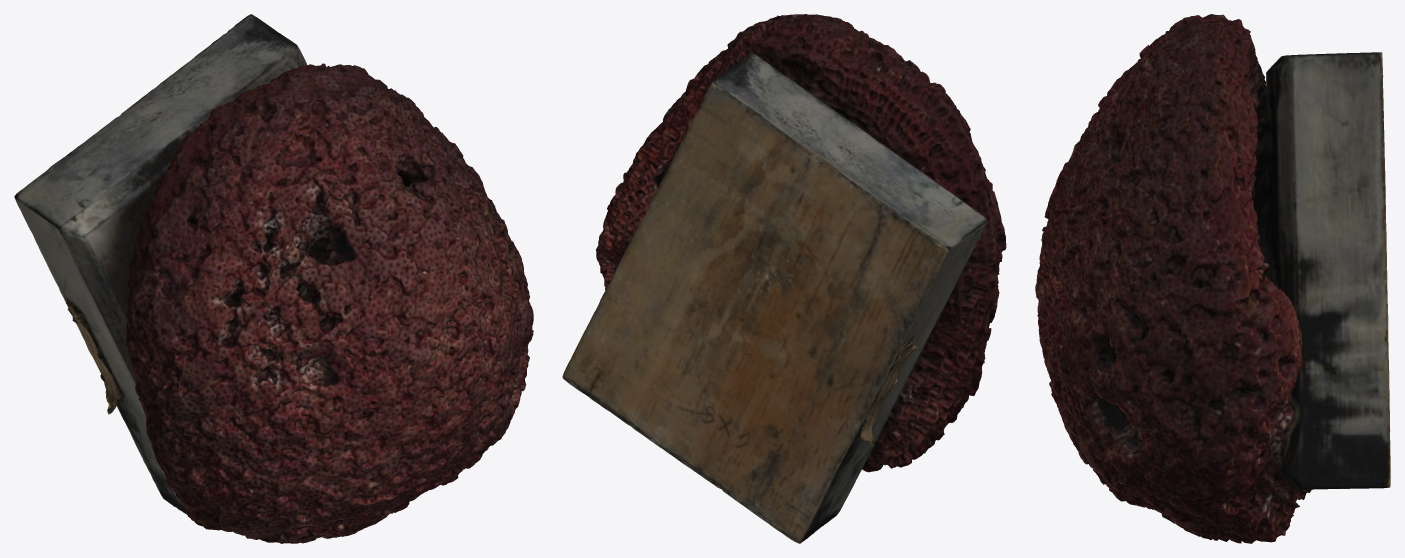
Rendered from smithsonian-tubipora-musica.glb.
The picture shows the model from 3 angles, left to right: view 1: azimuth 30°, elevation 25°; view 2: azimuth 150°, elevation 25°; view 3: azimuth 270°, elevation 25°; orthographic projection. The views are drawn at different scales.
Size of the model in its own units: 240 by 254 by 166.
1 material, 1 textured.
